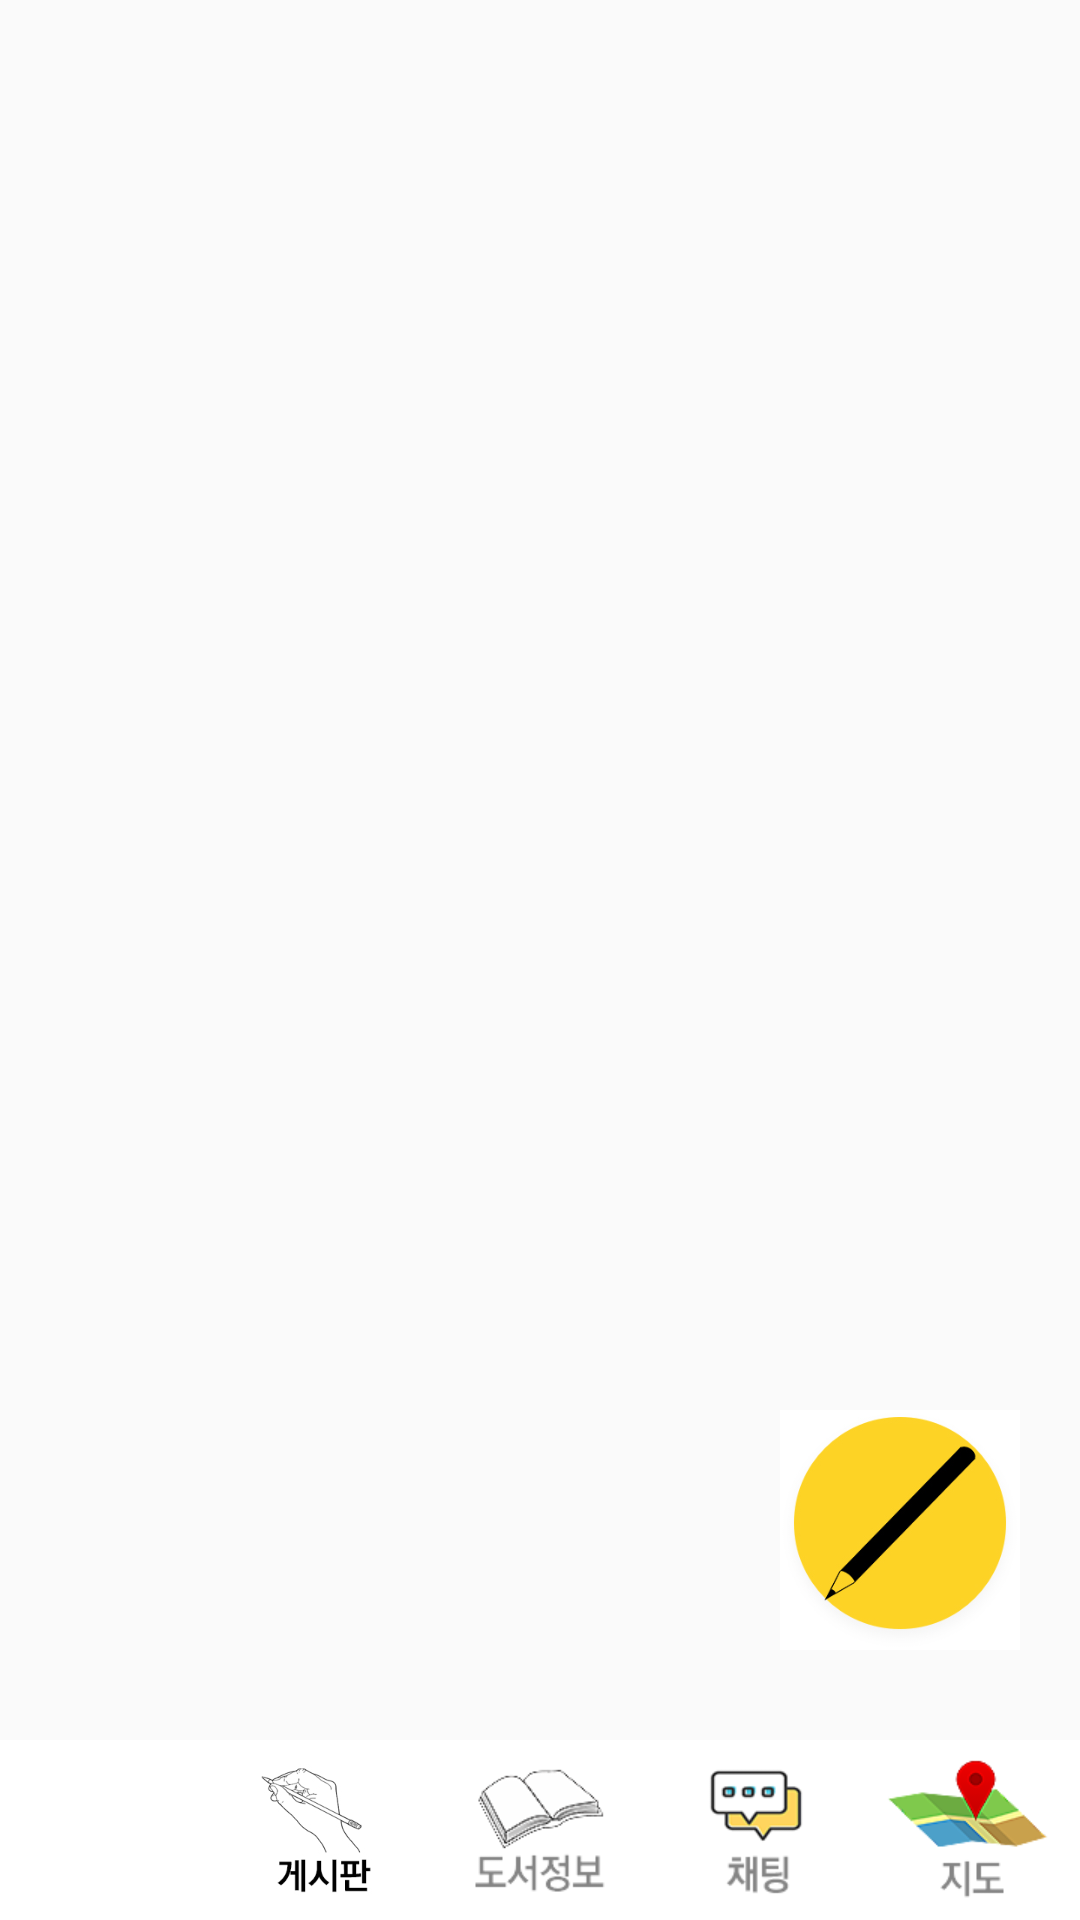

Where icons sit on this 1080px x 1920px app screen, as (x1, y1, x2, y2):
btnwrite: (794, 1417, 1006, 1630)
